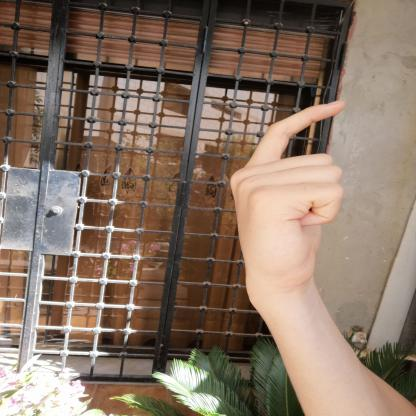RAA: (220, 89, 360, 303)
